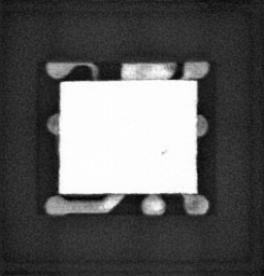DIE_INK: (159, 148, 169, 155)
